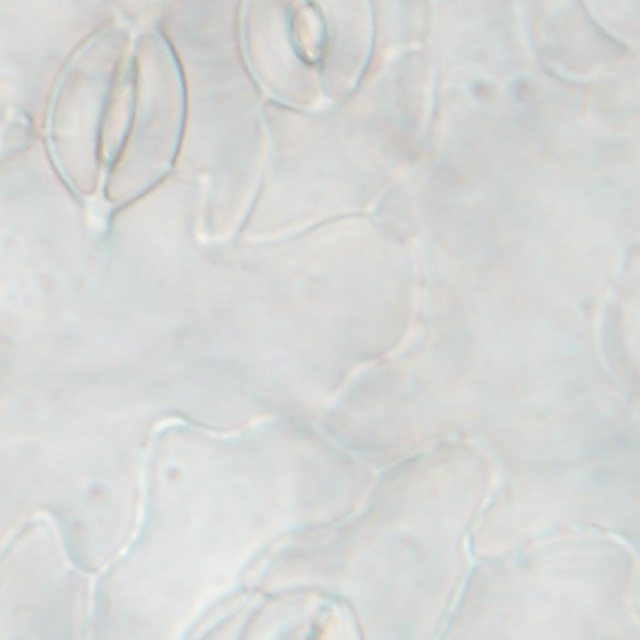center: (96, 55, 136, 172), (273, 611, 327, 618)
stomata-huw1: (46, 25, 186, 209), (238, 0, 375, 111), (239, 590, 361, 639)
